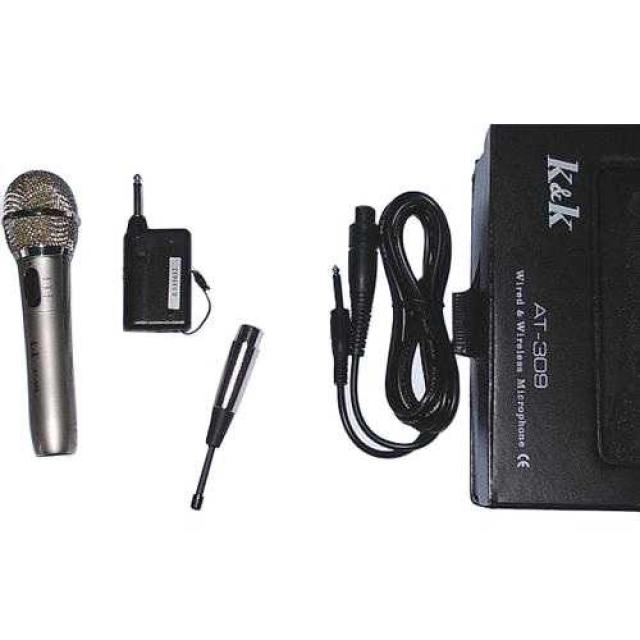microphone: (2, 165, 82, 458)
